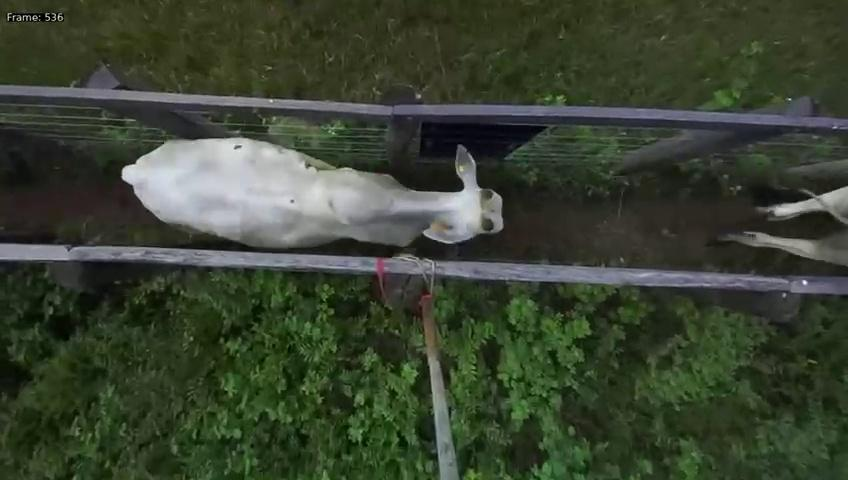cattle: (93, 124, 504, 259)
